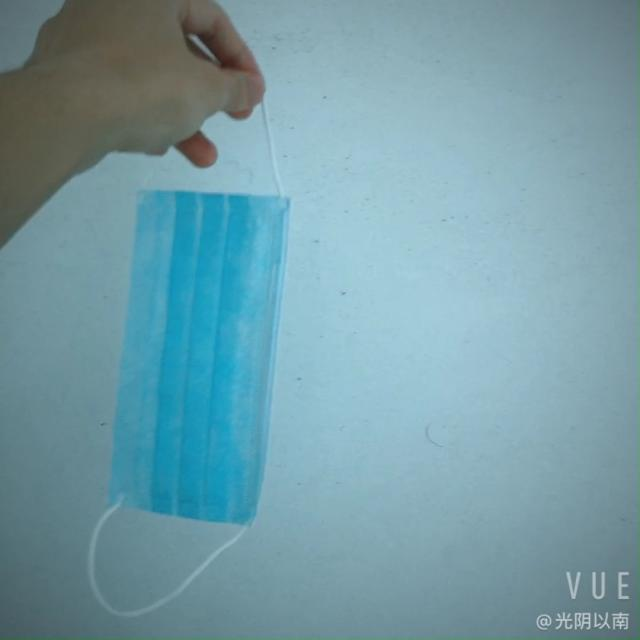face mask: (111, 187, 302, 522)
